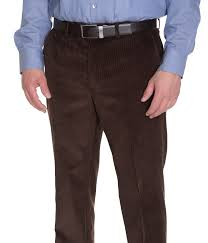F_belt: (42, 14, 169, 42)
F_dress pants: (41, 33, 173, 243)
